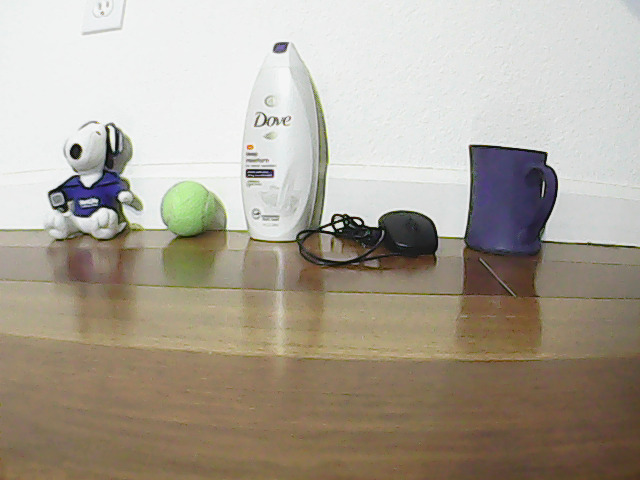ball: (168, 181, 221, 235)
mouse: (368, 197, 432, 264)
mug: (468, 131, 557, 269)
snoopy: (37, 109, 136, 247)
soap: (241, 29, 312, 240)
